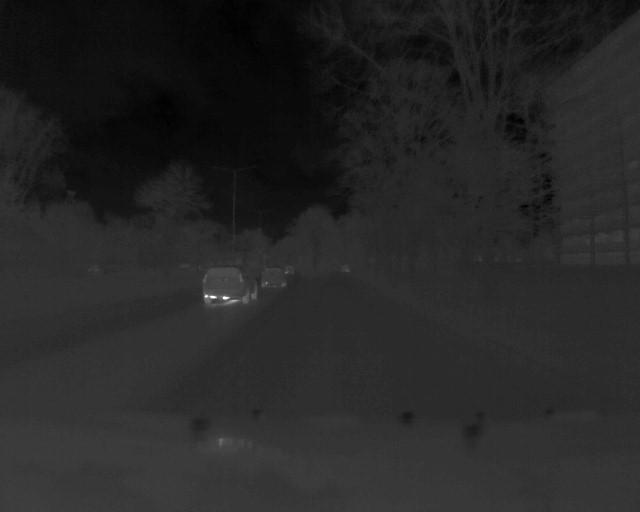car: (205, 265, 261, 309), (262, 263, 288, 293)
